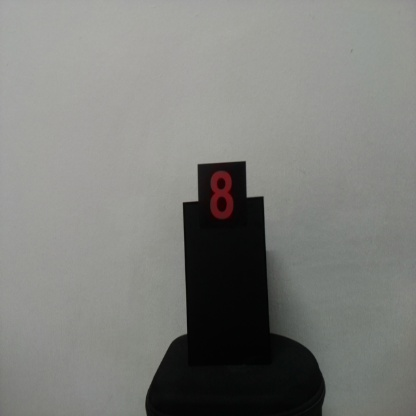id_8: (197, 165, 248, 240)
